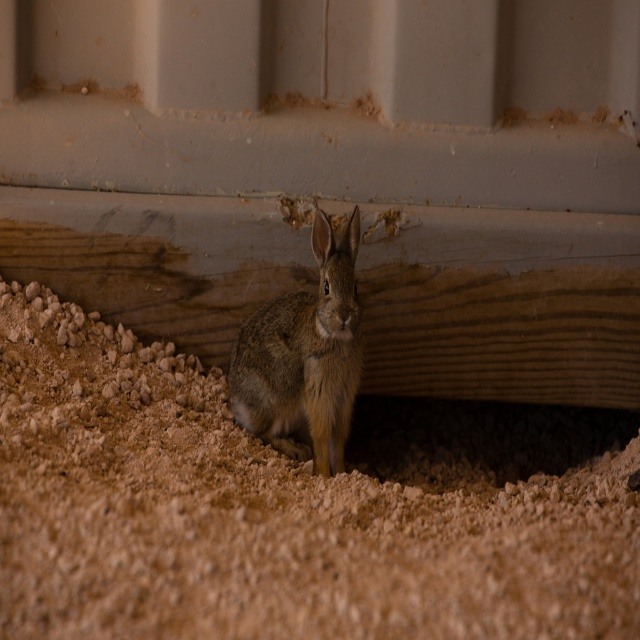Rabbit: (226, 201, 370, 481)
